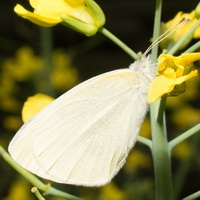insect: (8, 57, 156, 185)
